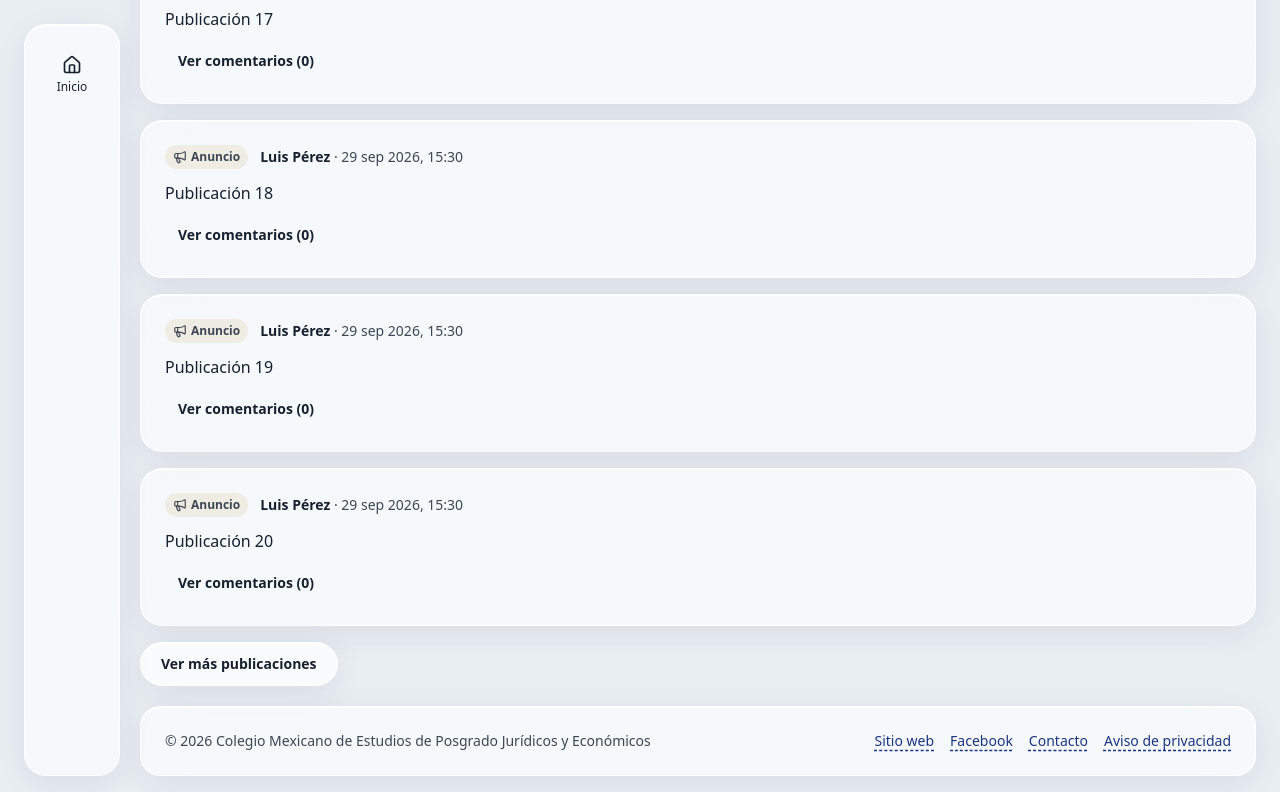
Test: ataque CLASES-c r4: T-35 sin peticiones de más (regresión final) › primer render: una sola petición de la primera página; con el error y sin navegación nueva, ninguna más; «Muro» pide una; con el muro ya sano, «Muro» no pide na
(page scrolled)
Click the button "Ver más publicaciones".
click(239, 664)  # box 140,642 -> 338,686
(page scrolled)
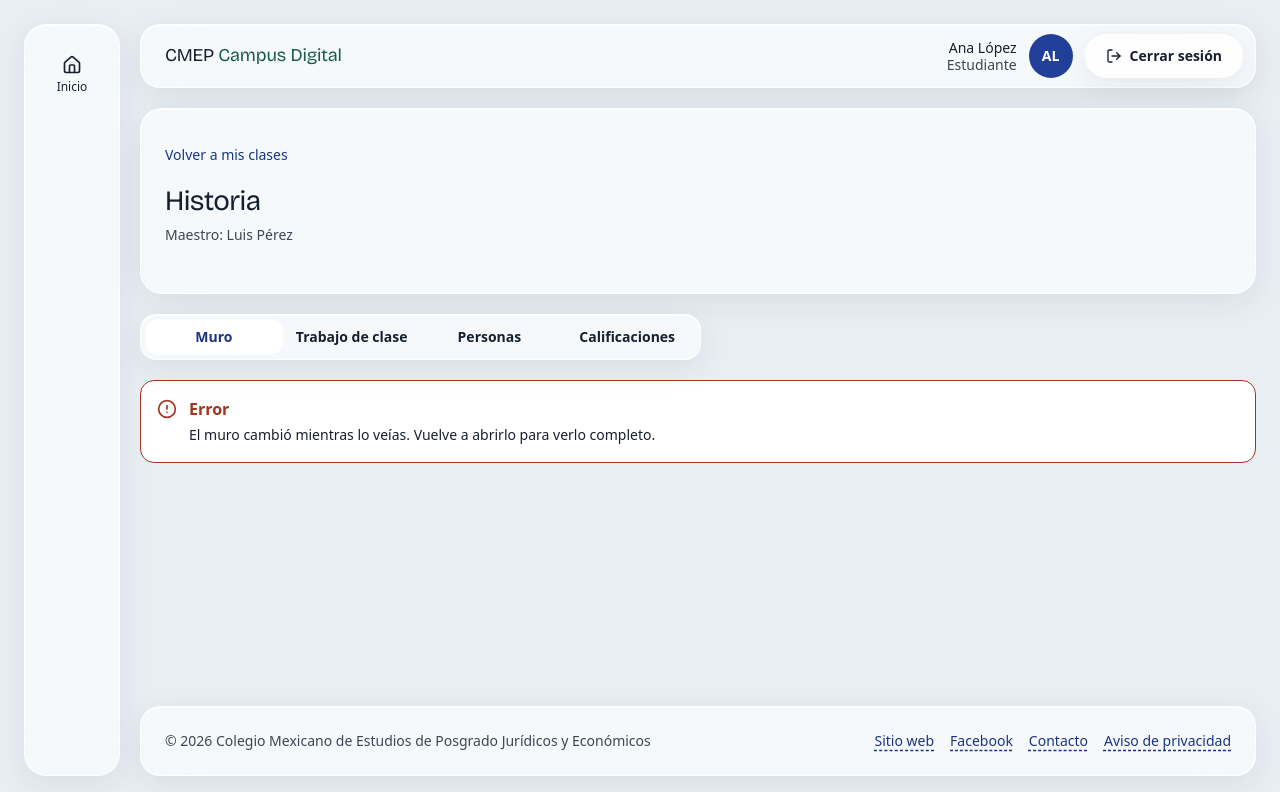
expect the text "El muro cambió mientras lo veías. Vuelve a abrirlo para verlo completo." is shown: met, box 189,426 -> 655,446
Click the link "Muro".
click(214, 337)  # box 195,327 -> 232,346
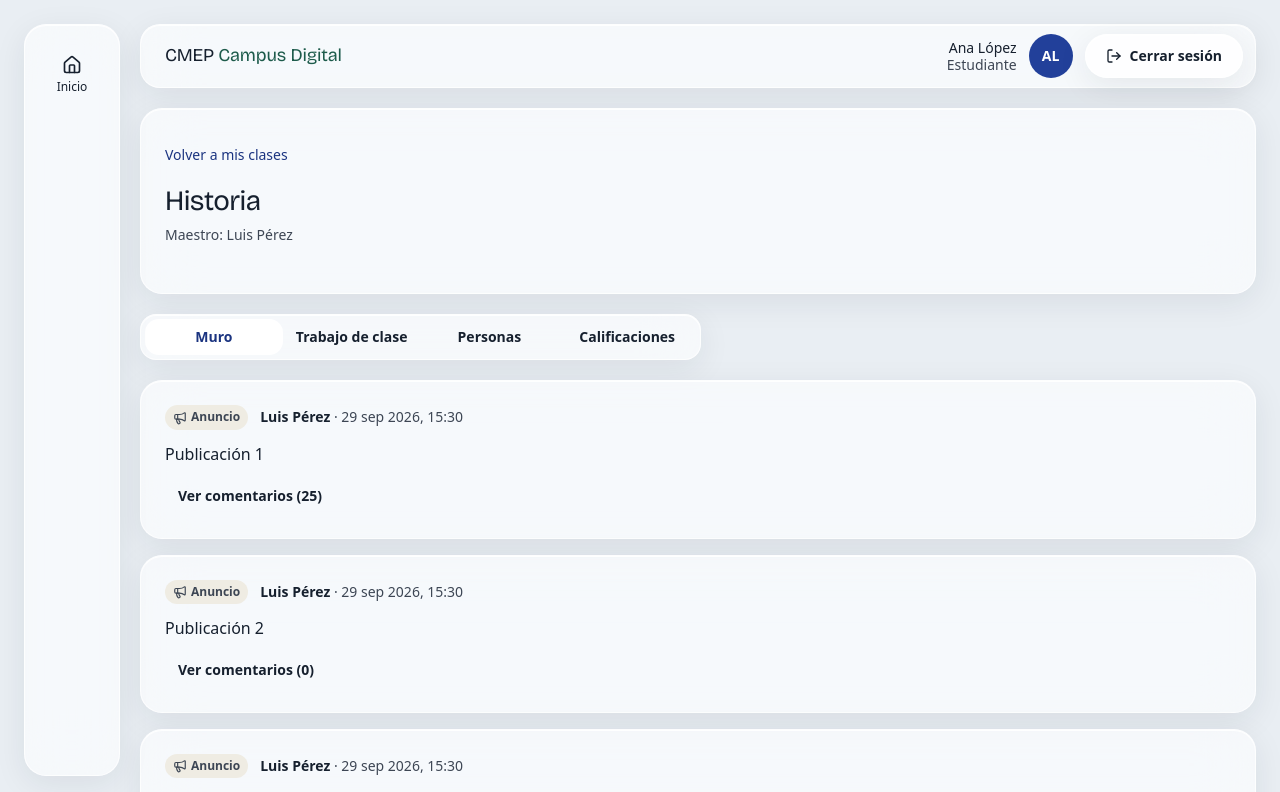
expect the text "El muro cambió mientras lo veías. Vuelve a abrirlo para verlo completo." is gone: met
Click the link "Muro".
click(214, 337)  # box 195,327 -> 232,346
(page scrolled)
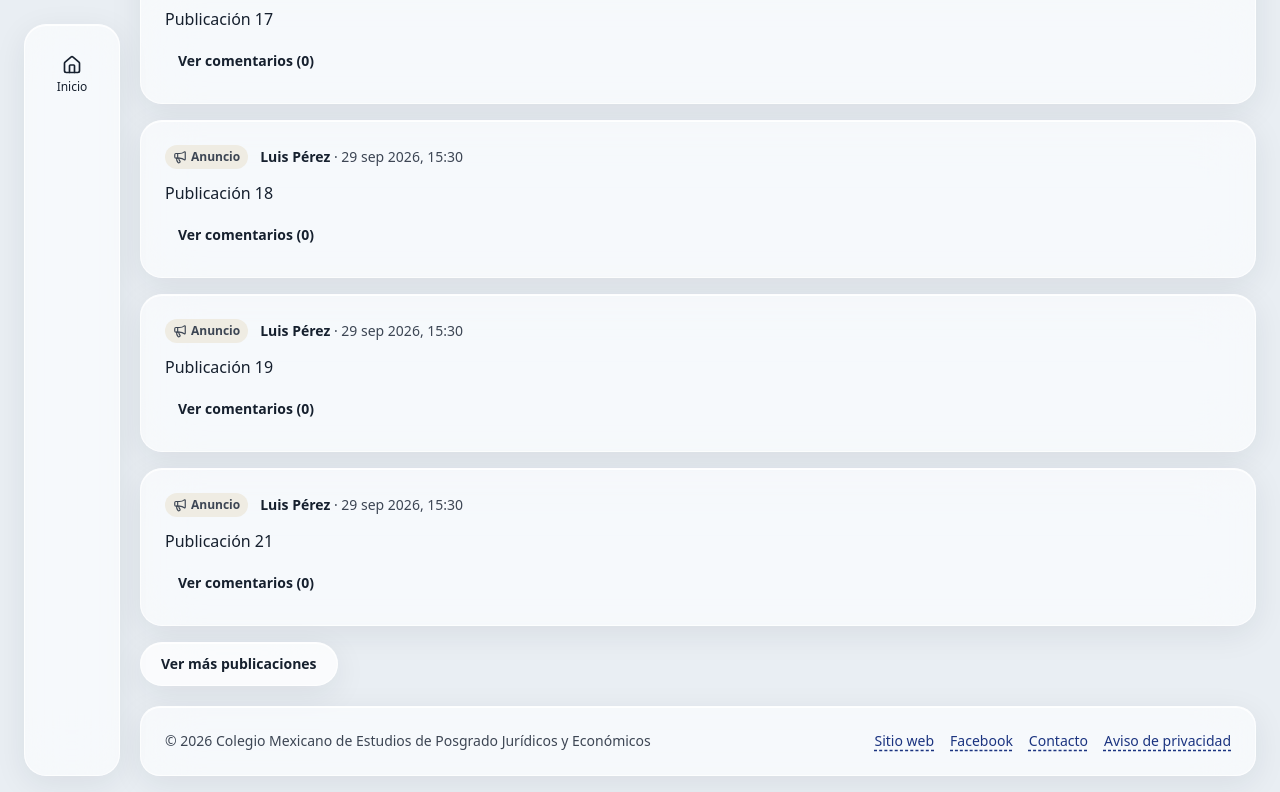
Click the button "Ver más publicaciones".
click(239, 664)  # box 140,642 -> 338,686
(page scrolled)
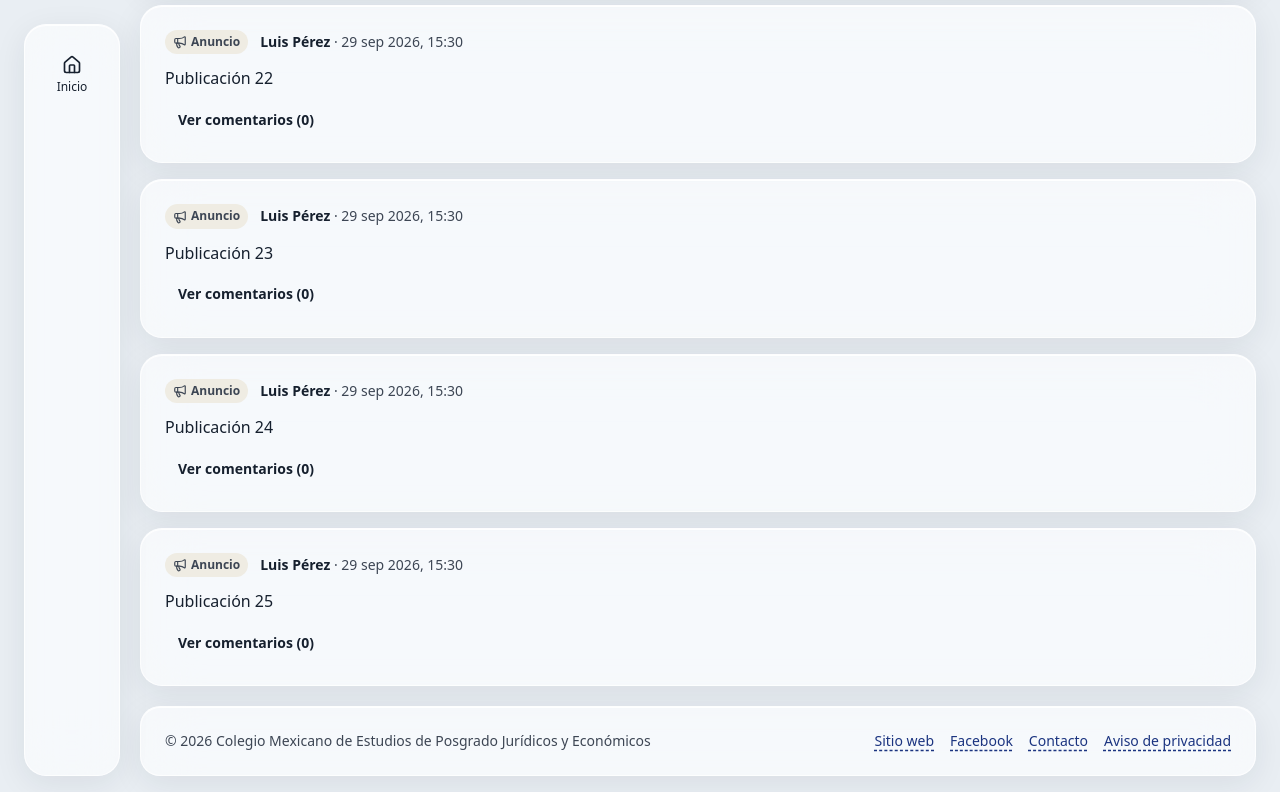
expect the text "El muro cambió mientras lo veías. Vuelve a abrirlo para verlo completo." is not shown: met
expect the text "Publicación 25" is shown: met, box 165,590 -> 273,612
